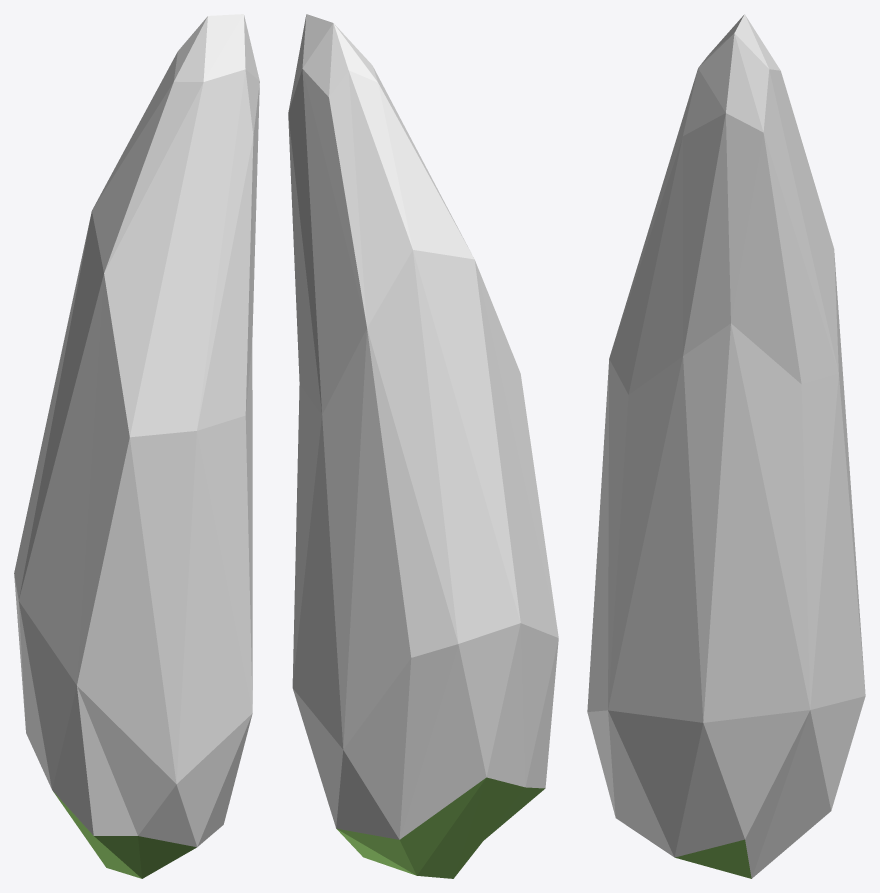
File: Thuja_BushTree_m_Snow_08.fbx
3 views of the same model, side by side, from view 1: azimuth 30°, elevation 25°; view 2: azimuth 150°, elevation 25°; view 3: azimuth 270°, elevation 25° (orthographic). The views are drawn at different scales.
Visible parts, largest first — view 1: Thuja_BushTree_m_Snow_08; view 2: Thuja_BushTree_m_Snow_08; view 3: Thuja_BushTree_m_Snow_08.
Boxes of the visible parts, bbox=[...] form: Thuja_BushTree_m_Snow_08: bbox=[14, 14, 259, 878]; Thuja_BushTree_m_Snow_08: bbox=[288, 14, 558, 878]; Thuja_BushTree_m_Snow_08: bbox=[587, 14, 865, 878].
Size of the model in its own units: 123 by 419 by 118.
